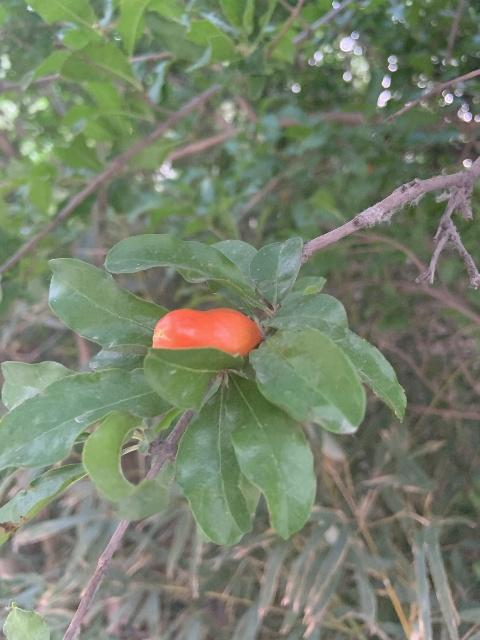bud: (153, 307, 260, 358)
